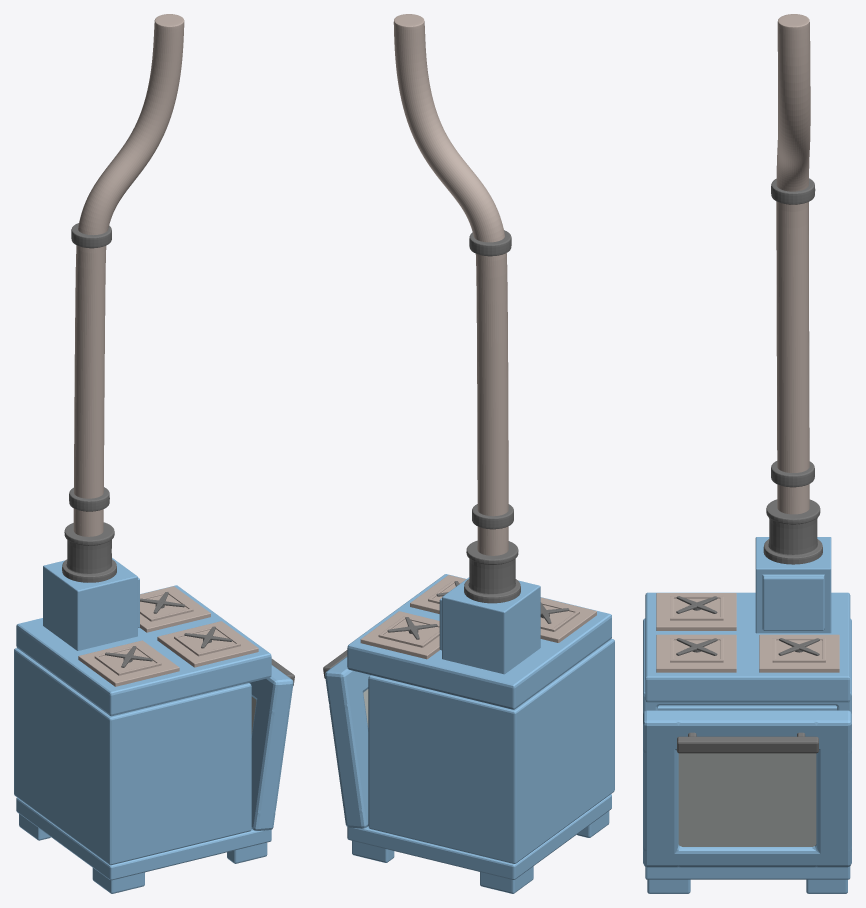
Rendered from Furnace.fbx.
3 renders of one model, left to right at view 1: azimuth 30°, elevation 25°; view 2: azimuth 150°, elevation 25°; view 3: azimuth 270°, elevation 25°, orthographic. The views are drawn at different scales.
Parts seen in each view (by area): view 1: Kitchen.001; view 2: Kitchen.001; view 3: Kitchen.001, Glass.001.
Boxes of the visible parts, bbox=[...] form: Kitchen.001: bbox=[14, 14, 294, 893]; Kitchen.001: bbox=[323, 14, 614, 893]; Kitchen.001: bbox=[643, 14, 851, 893]; Glass.001: bbox=[678, 753, 816, 846].
Bounding box in the file's own units: 88.78 × 335 × 73.81.
